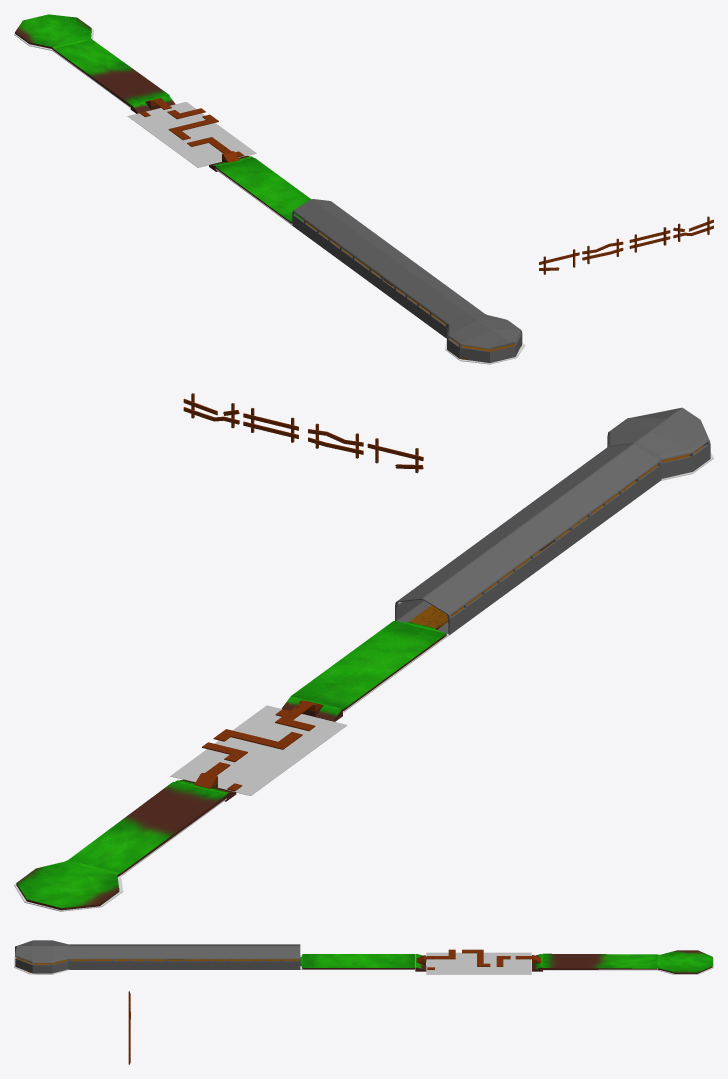
Rendered from Granja.fbx.
The picture shows the model from 3 angles, top to bottom: view 1: azimuth 30°, elevation 25°; view 2: azimuth 150°, elevation 25°; view 3: azimuth 270°, elevation 25°; orthographic projection. The views are drawn at different scales.
Visible parts, largest first — view 1: galpão, galpão.001, rio, corredor.003, galpão.002, corredor.002, Cylinder.003; view 2: galpão, galpão.001, rio, corredor.003, corredor.002, galpão.002, Cylinder.003; view 3: galpão, galpão.001, rio, corredor.003, corredor.002, galpão.002, Cylinder.003, base corredor, Cube.001.
Part boxes in pixels (x1,y1,x2,y2): galpão: (292, 199, 407, 281); galpão.001: (369, 255, 483, 338); rio: (127, 101, 256, 167); corredor.003: (53, 39, 169, 106); galpão.002: (446, 311, 522, 362); corredor.002: (216, 158, 310, 223); Cylinder.003: (15, 14, 91, 50); galpão: (395, 521, 555, 634); galpão.001: (503, 444, 661, 557); rio: (170, 705, 347, 795); corredor.003: (68, 782, 226, 874); corredor.002: (290, 621, 446, 710); galpão.002: (607, 407, 710, 479); Cylinder.003: (16, 860, 120, 910); galpão: (185, 944, 300, 969); galpão.001: (69, 944, 184, 969); rio: (426, 952, 531, 974); corredor.003: (543, 953, 657, 969); corredor.002: (300, 954, 414, 969); galpão.002: (15, 940, 69, 973); Cylinder.003: (657, 950, 712, 973); base corredor: (70, 969, 299, 969); Cube.001: (462, 949, 490, 966).
Bounding box in the file's own units: 8559 × 646 × 21699.
